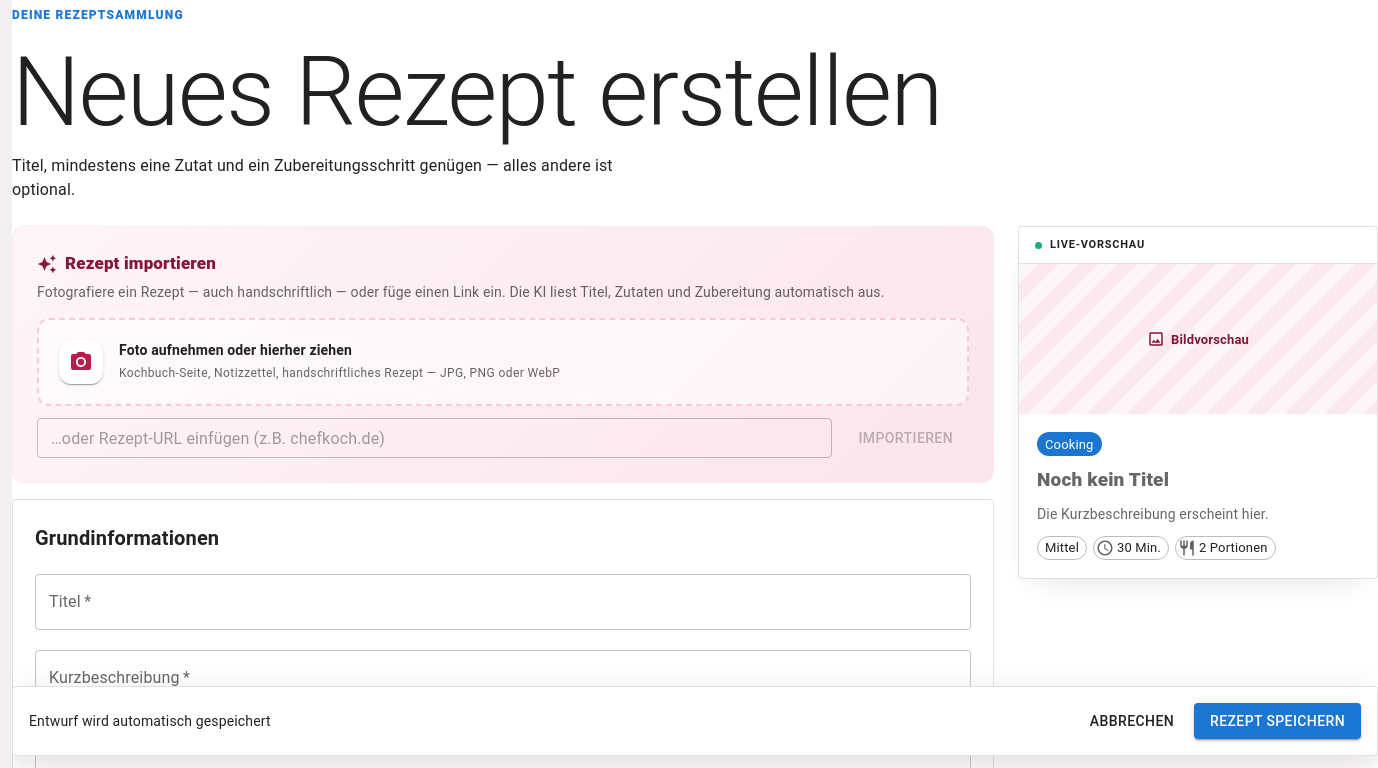
CreateRecipePage import › prefills the form from an imported recipe URL
In the field labelled "Rezept-URL": [435, 438] box [37,418,832,458], type "https://example.com/rezept"
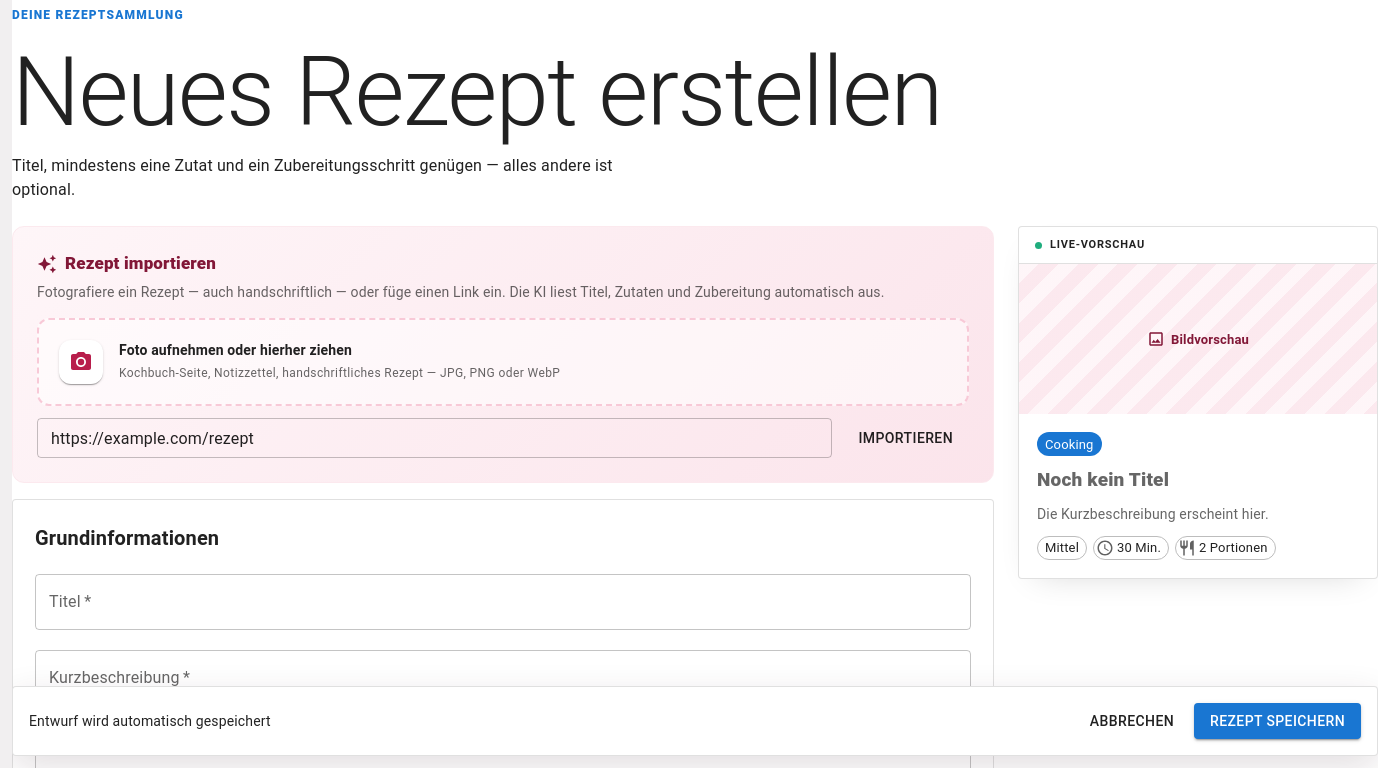
Click the button "Importieren": [906, 438] box [842,418,969,458]
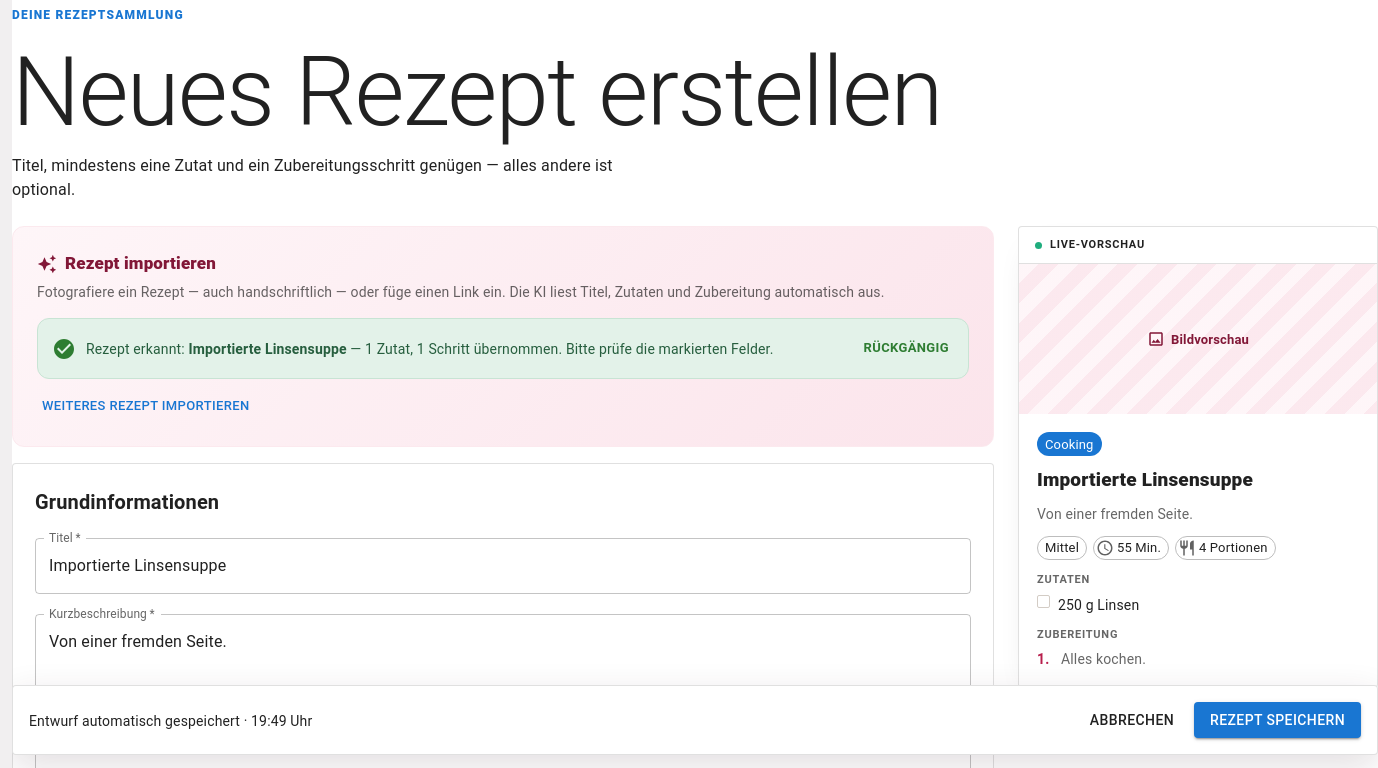
Result: the field labelled "Titel *" holds "Importierte Linsensuppe" at [35,538,971,594]
Result: the text box labelled "Kurzbeschreibung *" holds "Von einer fremden Seite." at [49,630,957,676]
Result: the text "Rezept erkannt" is shown at [86,341,188,357]
